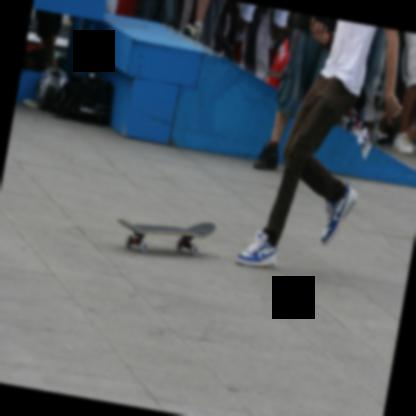backpack: (61, 75, 117, 130), (35, 64, 68, 113)
